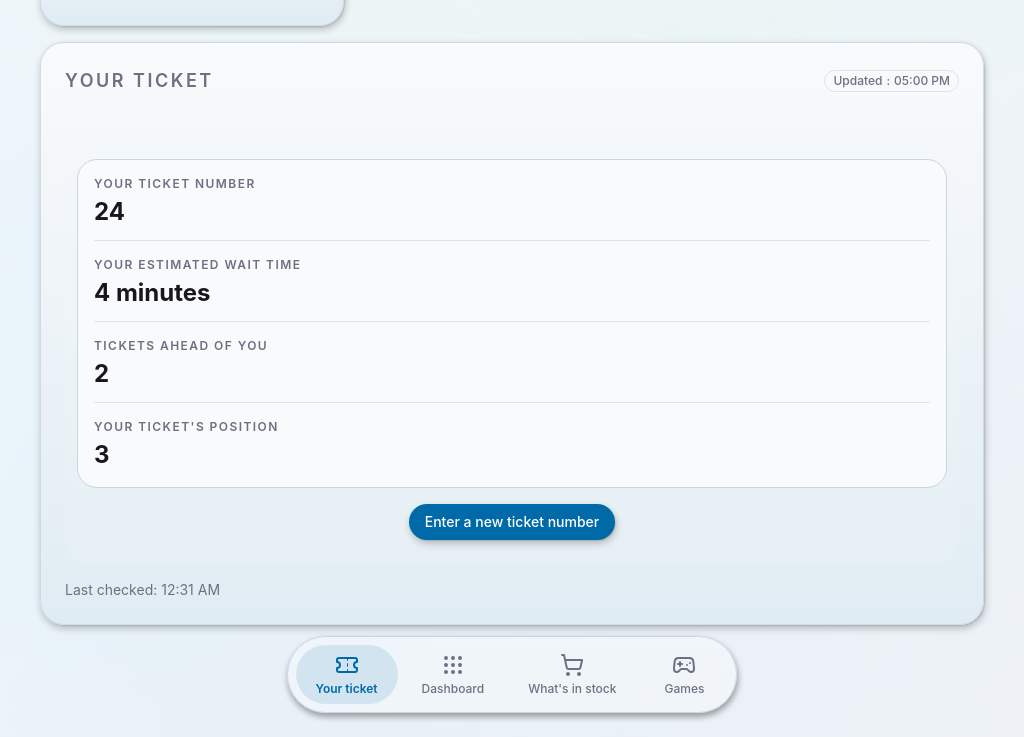
Test: homepage ticket persistence › reopens ticket modal prefilled when entering a new ticket number
(page scrolled)
Click the button "Enter a new ticket number". click: (512, 522)
box: [409,504,615,540]
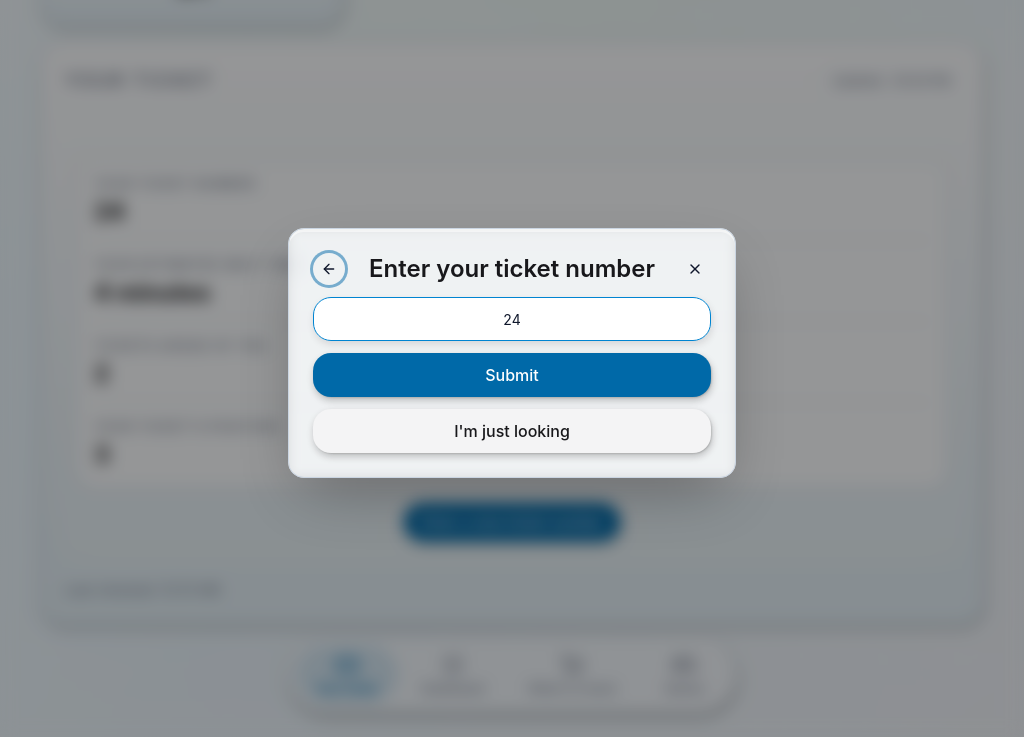
Result: the field named "Enter your ticket number" holds "24" at [313,297,711,341]
